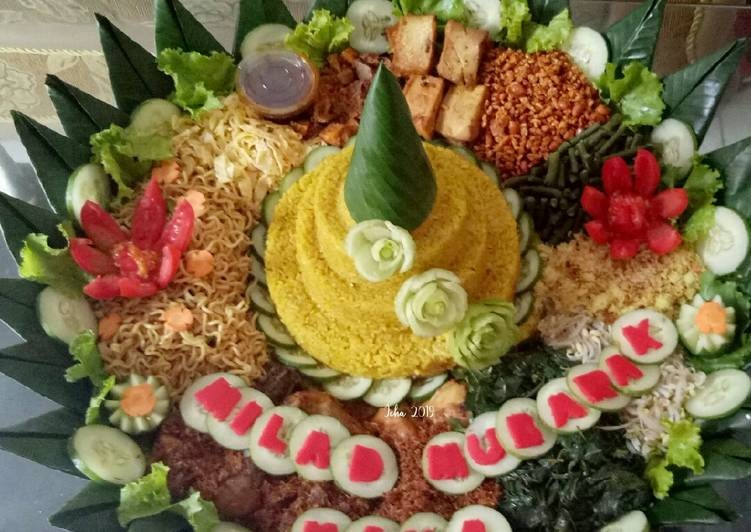nasi_tumpeng: (57, 1, 691, 526)
